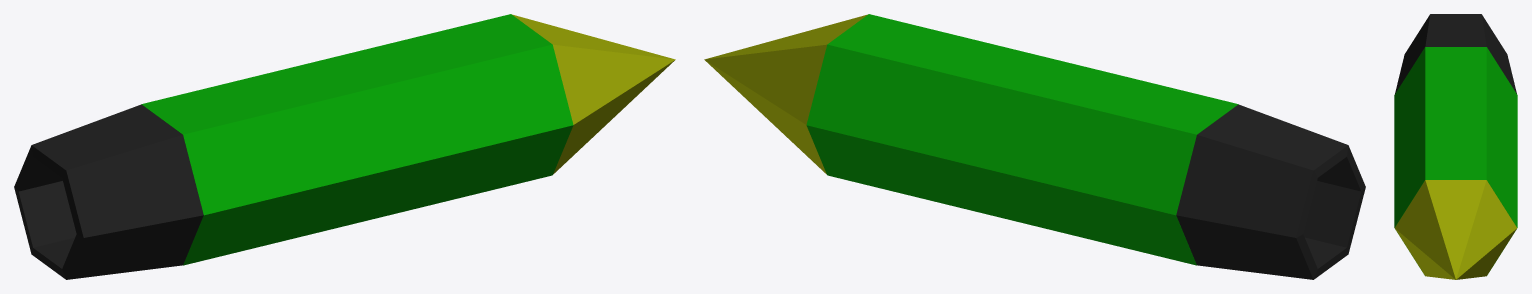
Rendered from Projectile1.obj.
3 renders of one model, left to right at view 1: azimuth 30°, elevation 25°; view 2: azimuth 150°, elevation 25°; view 3: azimuth 270°, elevation 25°, orthographic. The views are drawn at different scales.
Visible parts, largest first — view 1: Body_Cylinder, Engine_Cylinder.001, Nose_Cone; view 2: Body_Cylinder, Engine_Cylinder.001, Nose_Cone; view 3: Body_Cylinder, Nose_Cone, Engine_Cylinder.001.
Part boxes in pixels (x1,y1,x2,y2): Body_Cylinder: [141, 14, 573, 265]; Engine_Cylinder.001: [14, 104, 203, 279]; Nose_Cone: [512, 14, 675, 174]; Body_Cylinder: [806, 14, 1238, 265]; Engine_Cylinder.001: [1176, 104, 1365, 279]; Nose_Cone: [704, 14, 867, 174]; Body_Cylinder: [1394, 47, 1517, 270]; Nose_Cone: [1395, 180, 1516, 279]; Engine_Cylinder.001: [1395, 14, 1516, 93].
Size of the model in its own units: 8.7 by 1.73 by 2.
